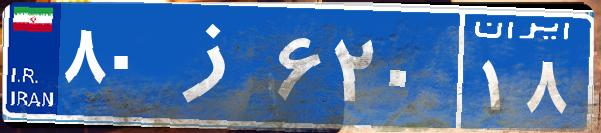0: (385, 28, 445, 110), (110, 28, 158, 105)
1: (475, 38, 525, 113)
2: (330, 28, 385, 110)
6: (273, 28, 330, 110)
8: (57, 26, 110, 107), (525, 38, 570, 115)
ز: (158, 15, 273, 115)
